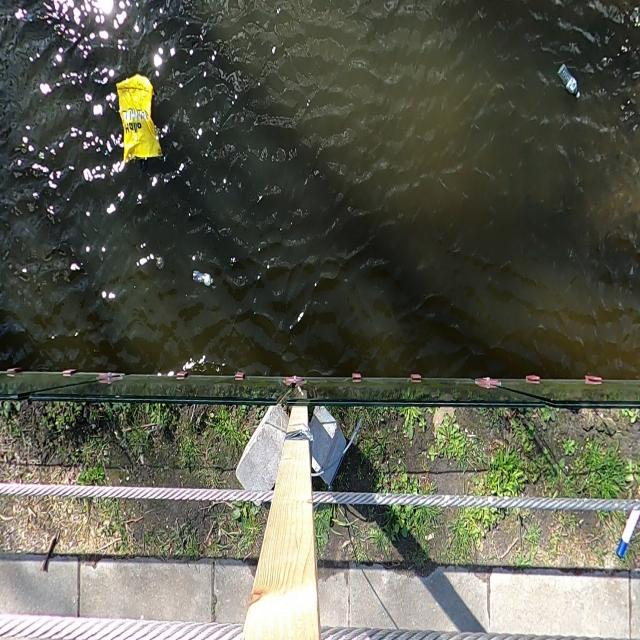Bouteille plastique: (556, 62, 584, 105), (190, 267, 216, 291)
Sac plastique: (114, 72, 167, 169)
